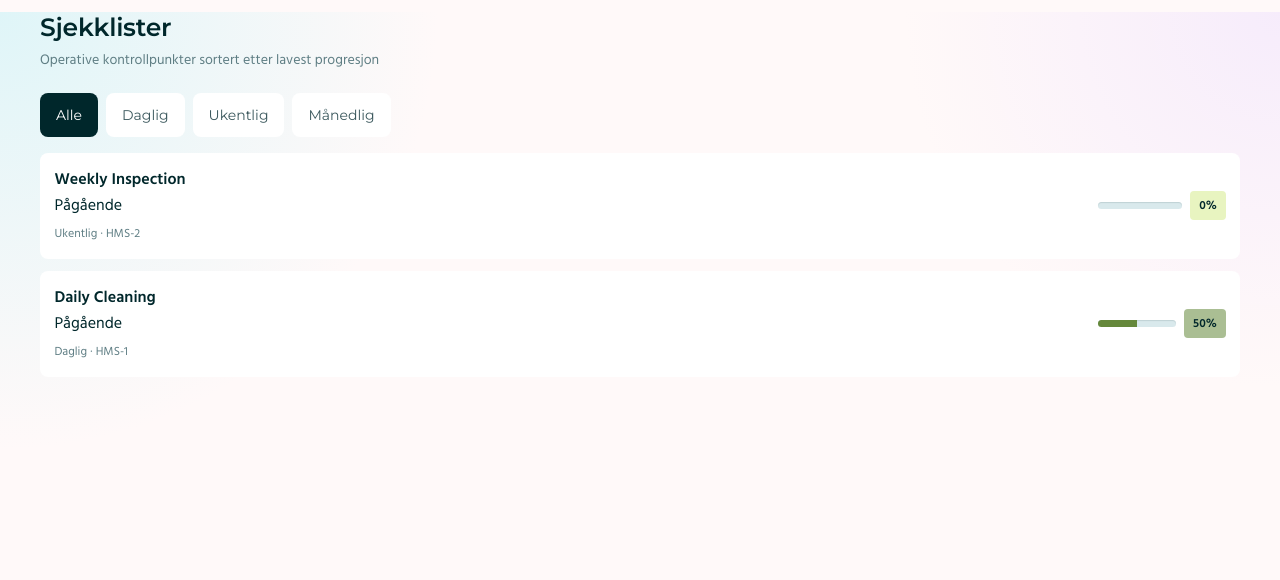
Test: ChecklistsView › maintains checklist expansion state independently
# Expand first checklist
Click the button with class "checklist-header__content" that starts with "Weekly Inspection".
click(120, 180)  # box [54,167,1226,244]
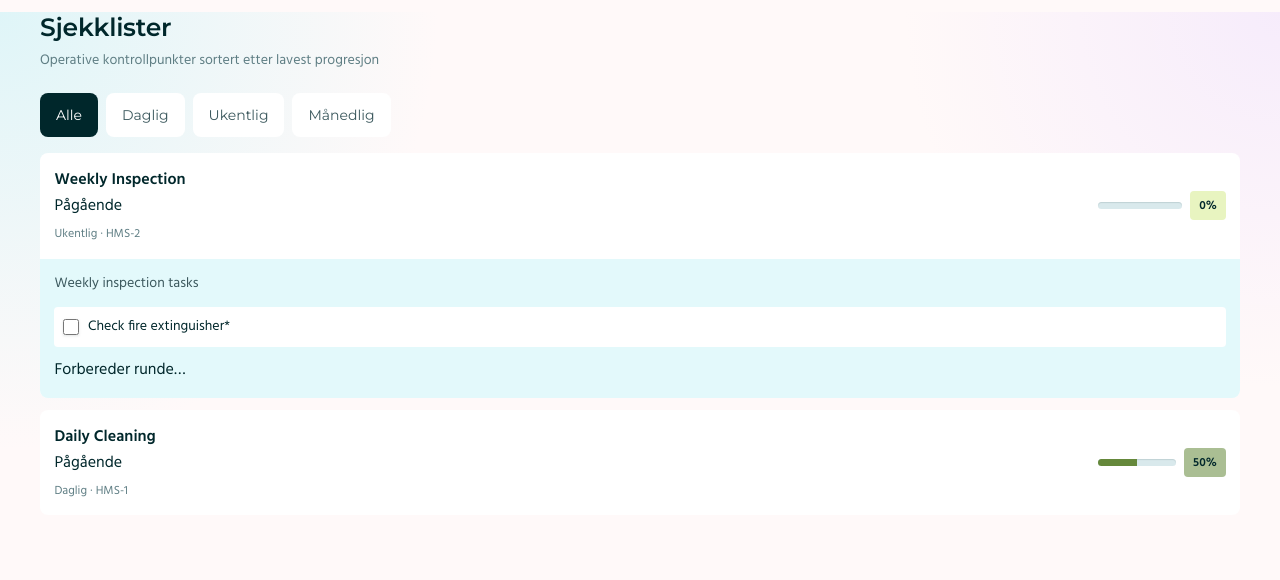
# Expand second checklist (first should collapse)
Click the button with class "checklist-header__content" that starts with "Daily Cleaning".
click(105, 437)  # box [54,424,1226,501]
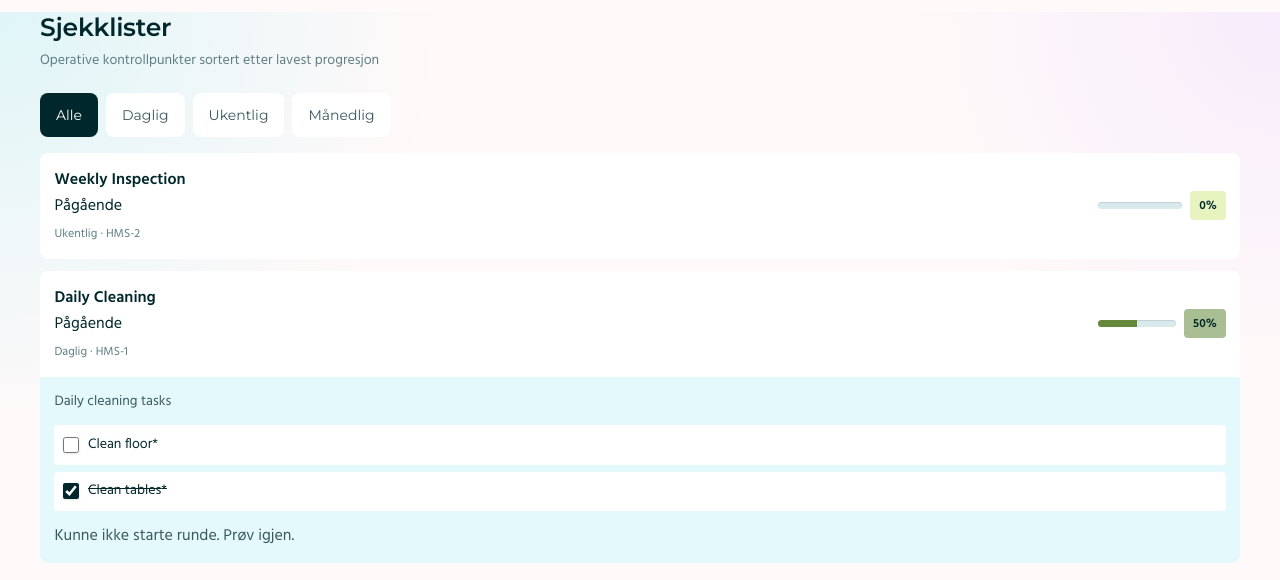
Check: the button with class "checklist-header__content" is expanded, box [54,285,1226,362]
